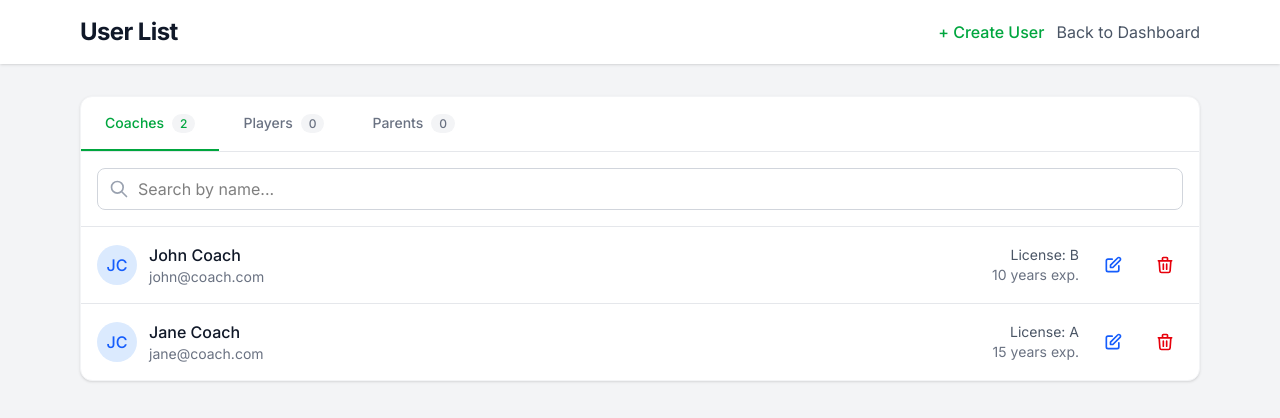
Test: UserListPage › Empty states › should show search no match message
expect the text "John Coach" is shown: met, box [149, 245, 241, 265]
In the field with placeholder "Search by name...": (640, 189) [97, 168, 1183, 210], type "xyz123"
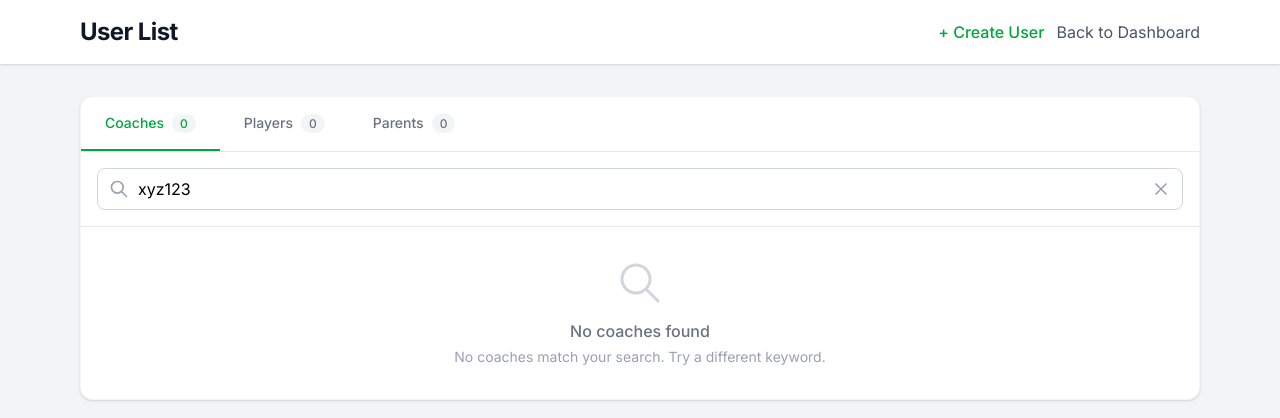
expect the text "No coaches match your search. Try a different keyword." is shown: met, box [454, 348, 826, 365]
